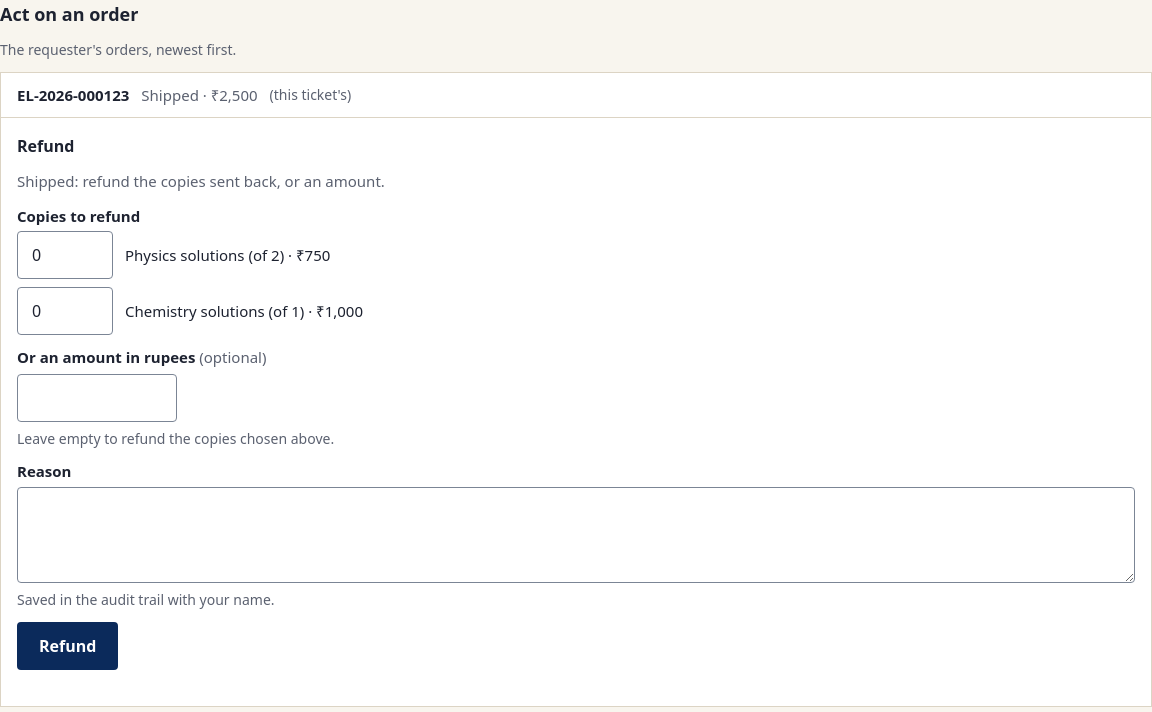
Test: TicketActions › sends nothing from an empty refund form, and says why
Type "The parcel came damaged." into the text box labelled "Reason".
click(576, 535); type("The parcel came damaged.")  # box [17, 487, 1135, 583]
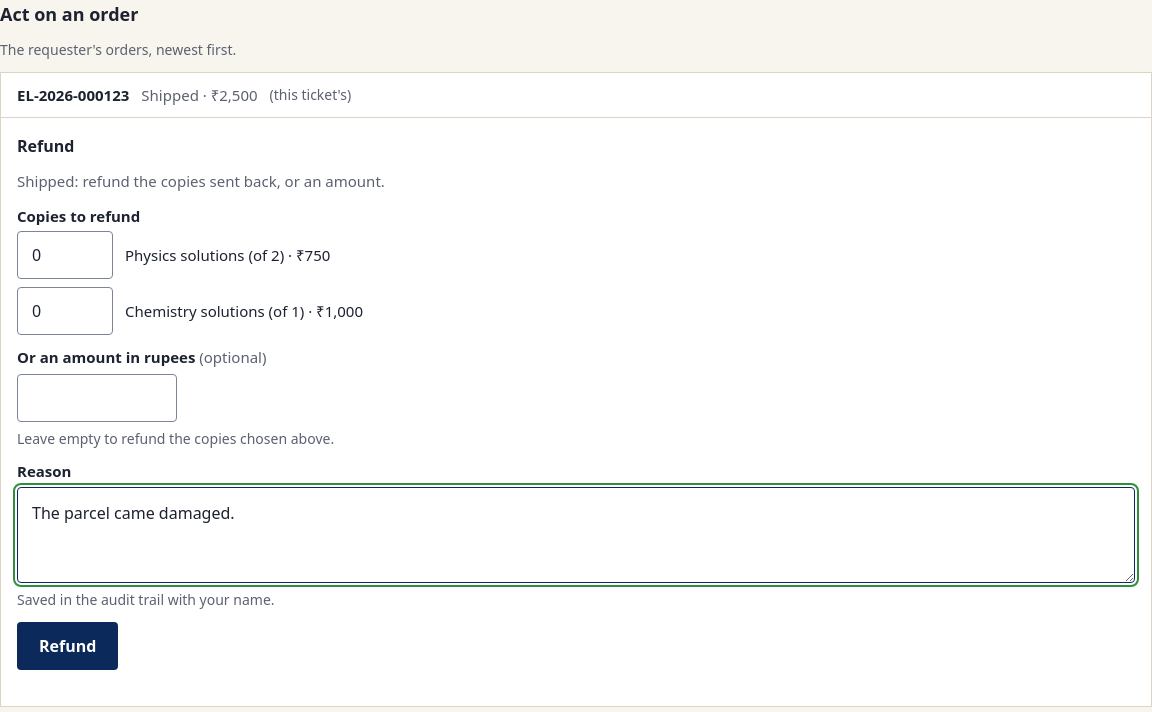
Click the button "Refund".
click(68, 646)  # box [17, 622, 118, 670]
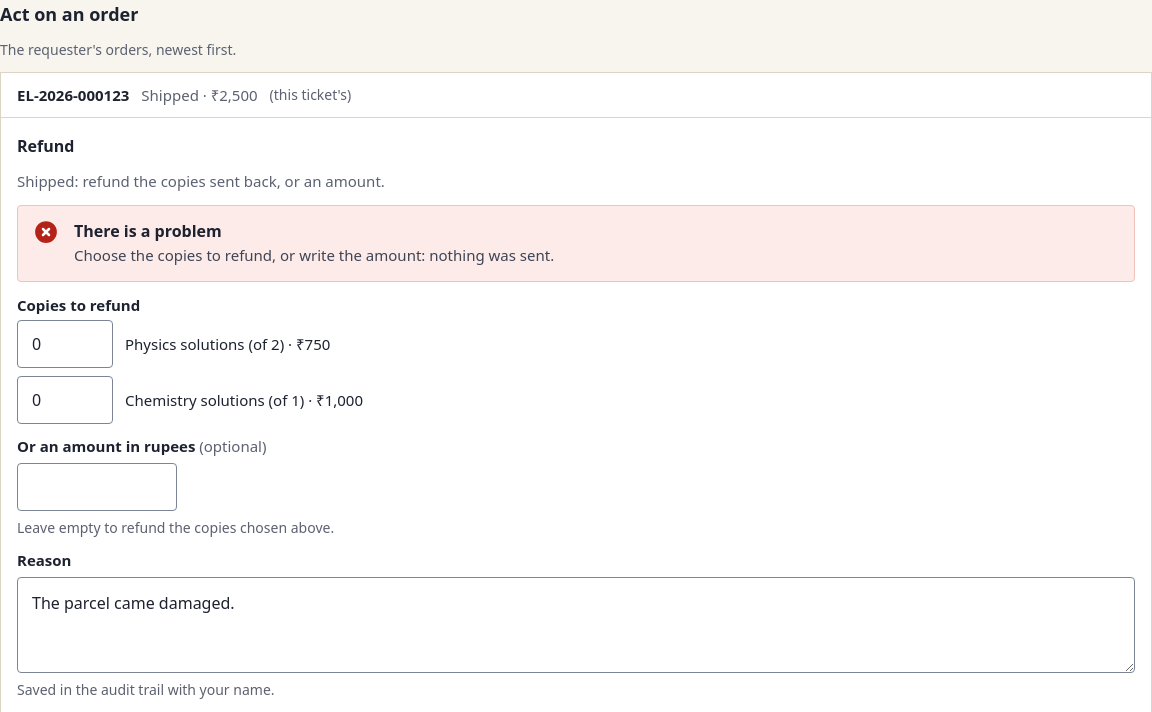
Expected: the message shows "Choose the copies to refund, or write the amount", [74, 244, 554, 264]
